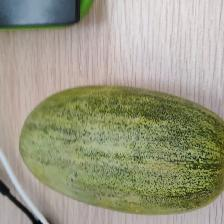gua: (41, 92, 213, 204)
